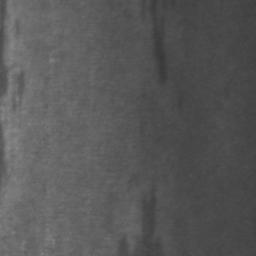Inclusion: (134, 195, 164, 256), (150, 0, 166, 83), (116, 237, 129, 256)
